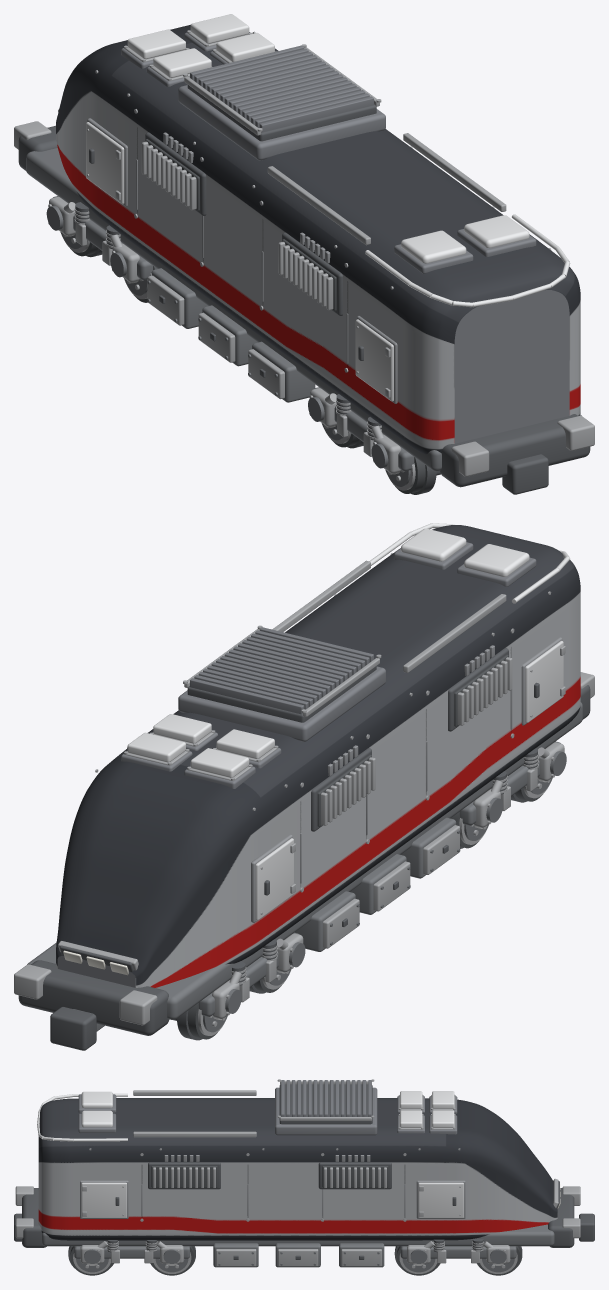
The model's file is Locomotive_v3_body.glb.
3 views of the same model, one above another, from view 1: azimuth 30°, elevation 25°; view 2: azimuth 150°, elevation 25°; view 3: azimuth 270°, elevation 25° (orthographic). The views are drawn at different scales.
Visible parts, largest first — view 1: body_UV_livery, rear_cap, rear_bufferbeam, underframe, radiator_plinth, L_door-2.78, L_door2.05, rear_coupler_head, radiator_core, rear_hatch-0.34, rear_hatch0.34, L_underbox1 (+22 smaller); view 2: body_UV_livery, front_bufferbeam, underframe, radiator_plinth, L_door2.05, L_door-2.78, front_coupler_head, rear_hatch0.34, rear_hatch-0.34, radiator_core, roof_hatch-0.34_2.08, roof_hatch0.34_1.62 (+20 smaller); view 3: body_UV_livery, underframe, radiator_core, R_door-2.78, R_door2.05, radiator_plinth, front_bufferbeam, rear_bufferbeam, roof_rail1, R_vent_recess0, R_vent_recess1, roof_rail-1 (+23 smaller).
Boxes of the visible parts, x1,y1,x2,y2 form: body_UV_livery: (56,24,580,454); rear_cap: (454,290,569,443); rear_bufferbeam: (440,414,590,487); underframe: (26,148,581,471); radiator_plinth: (178,85,385,160); L_door-2.78: (355,319,393,401); L_door2.05: (86,122,124,204); rear_coupler_head: (502,454,548,494); radiator_core: (187,85,376,141); rear_hatch-0.34: (401,230,466,263); rear_hatch0.34: (464,215,529,247); L_underbox1: (252,341,315,402); body_UV_livery: (56,525,580,987); front_bufferbeam: (18,960,169,1035); underframe: (27,702,582,1019); radiator_plinth: (178,666,385,741); L_door2.05: (255,838,293,920); L_door-2.78: (525,640,563,722); front_coupler_head: (50,1007,96,1050); rear_hatch0.34: (401,528,466,561); rear_hatch-0.34: (464,544,529,576); radiator_core: (187,666,376,722); roof_hatch-0.34_2.08: (190,748,249,777); roof_hatch0.34_1.62: (153,714,211,743); body_UV_livery: (38,1098,557,1240); underframe: (42,1224,554,1246); radiator_core: (279,1084,372,1124); R_door-2.78: (81,1182,126,1218); R_door2.05: (418,1182,463,1218); radiator_plinth: (275,1087,377,1135); front_bufferbeam: (548,1188,574,1247); rear_bufferbeam: (22,1188,46,1247); roof_rail1: (133,1131,256,1137); R_vent_recess0: (322,1166,388,1187); R_vent_recess1: (151,1166,217,1187); roof_rail-1: (133,1090,256,1095).
Bounding box in the file's own units: 1.92 × 2.52 × 8.33.
11 materials, 1 textured.
